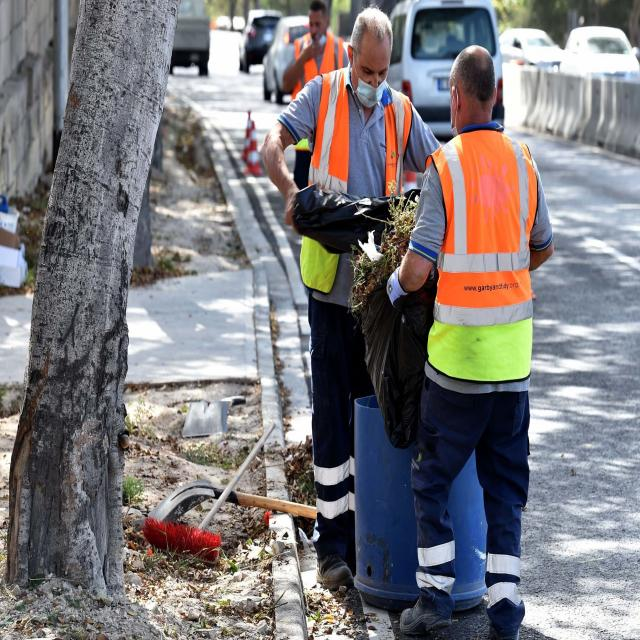Reflective-Jacket: (424, 127, 543, 390), (294, 70, 414, 298), (271, 31, 351, 107)
